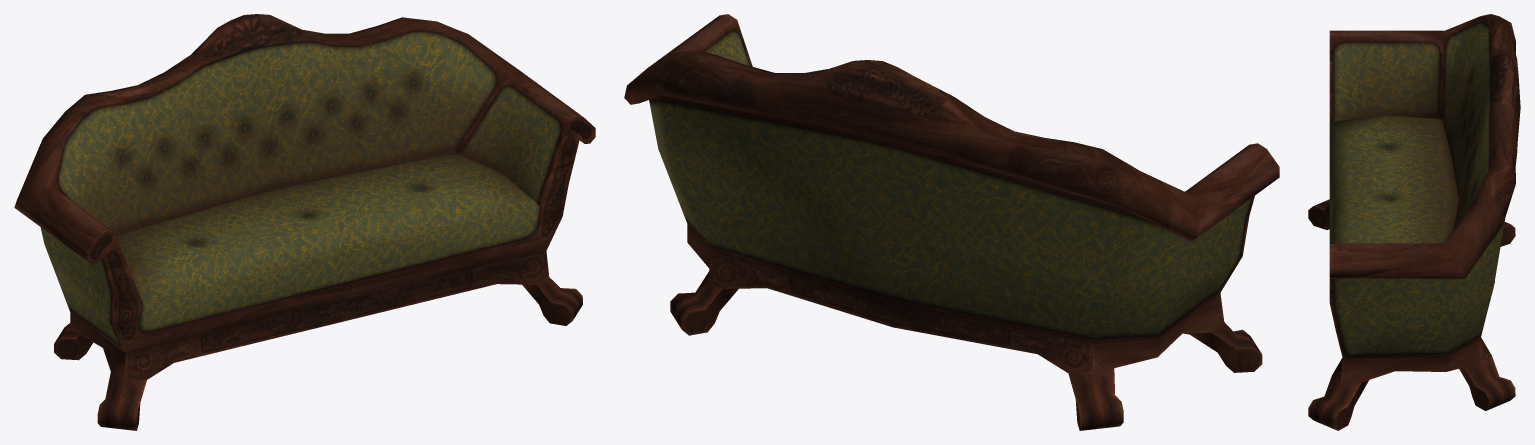
File: sofa_alt_green.dae
3 renders of one model, left to right at view 1: azimuth 30°, elevation 25°; view 2: azimuth 150°, elevation 25°; view 3: azimuth 270°, elevation 25°, orthographic. The views are drawn at different scales.
Parts seen in each view (by area): view 1: polySurface2; view 2: polySurface2; view 3: polySurface2.
Part boxes in pixels (x1,y1,x2,y2): polySurface2: (14, 14, 595, 430); polySurface2: (624, 14, 1279, 430); polySurface2: (1308, 14, 1520, 430).
Bounding box in the file's own units: 2.4 × 1.29 × 0.9348.
Materials: 1 (1 with a texture image).
